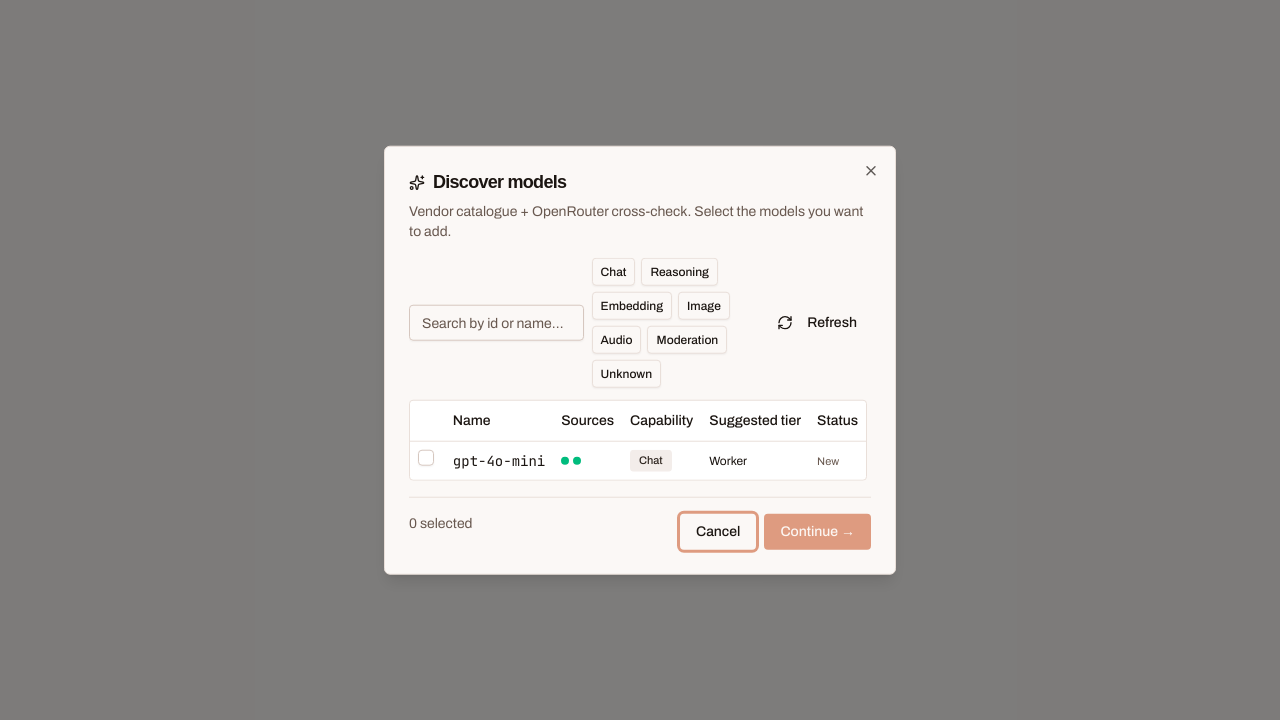
Scenario: DiscoverModelsDialog › Step 2 — Discovery › disables Continue until at least one non-matrix row is selected
Expected: the text "gpt-4o-mini" is shown, [453, 450, 545, 470]
Expected: the button "Continue →" is disabled, [764, 513, 871, 549]
Click the checkbox named "select gpt-4o-mini": coordinates (426, 458) [418, 450, 434, 466]
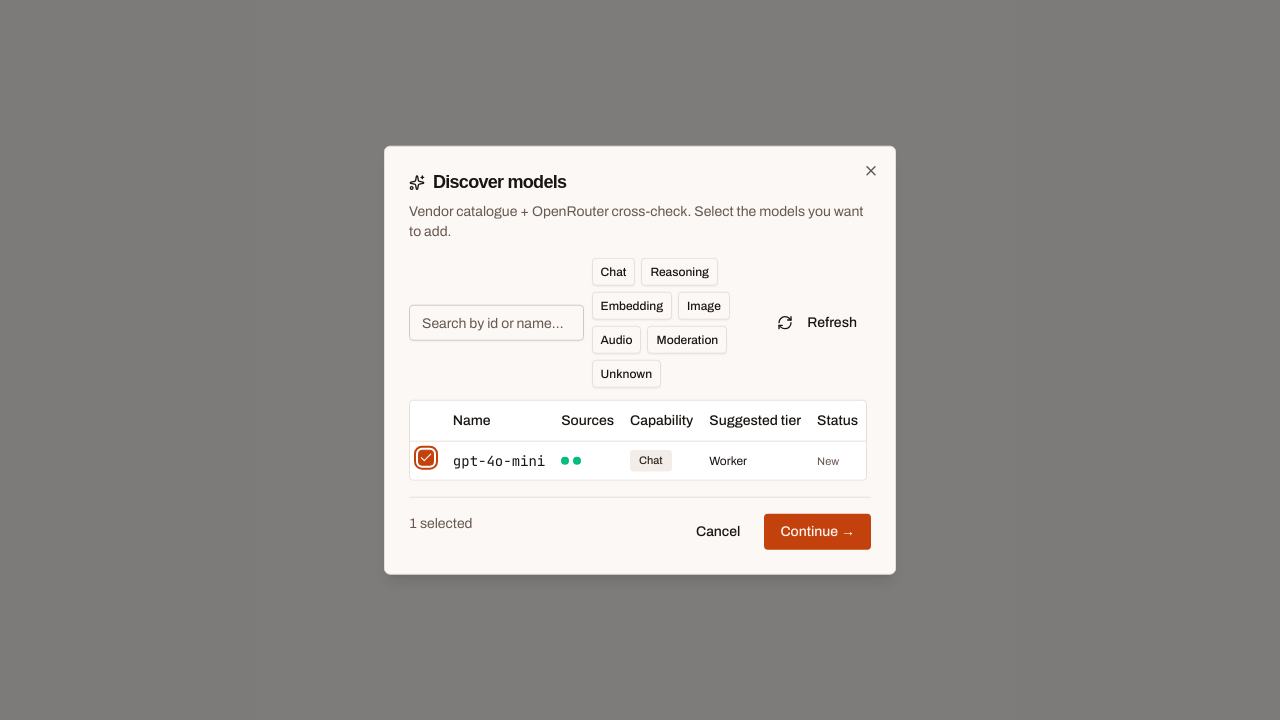
Expected: the button "Continue →" is enabled, [764, 513, 871, 549]
